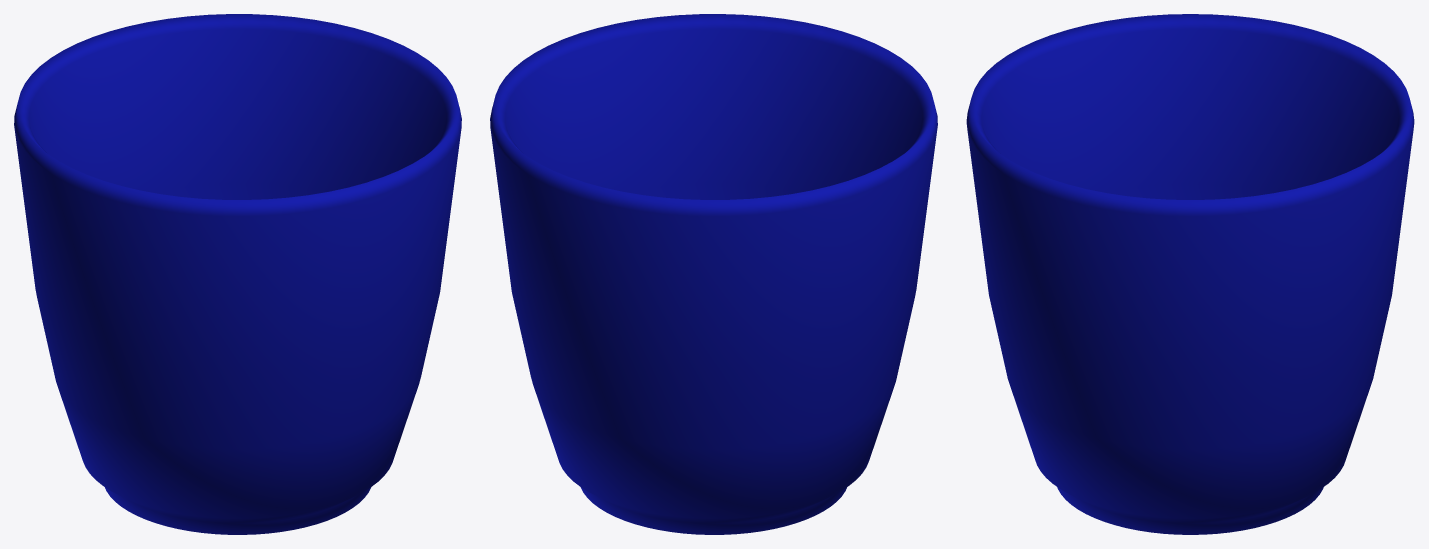
Rendered from cup16.glb.
The picture shows the model from 3 angles, left to right: view 1: azimuth 30°, elevation 25°; view 2: azimuth 150°, elevation 25°; view 3: azimuth 270°, elevation 25°; orthographic projection.
Visible parts, largest first — view 1: Cup16.001; view 2: Cup16.001; view 3: Cup16.001.
Boxes of the visible parts, left/top/right/bottom form: Cup16.001: left=14, top=14, right=461, bottom=534; Cup16.001: left=490, top=14, right=937, bottom=534; Cup16.001: left=966, top=14, right=1414, bottom=534.
Bounding box in the file's own units: 4.07 × 3.72 × 4.07.
